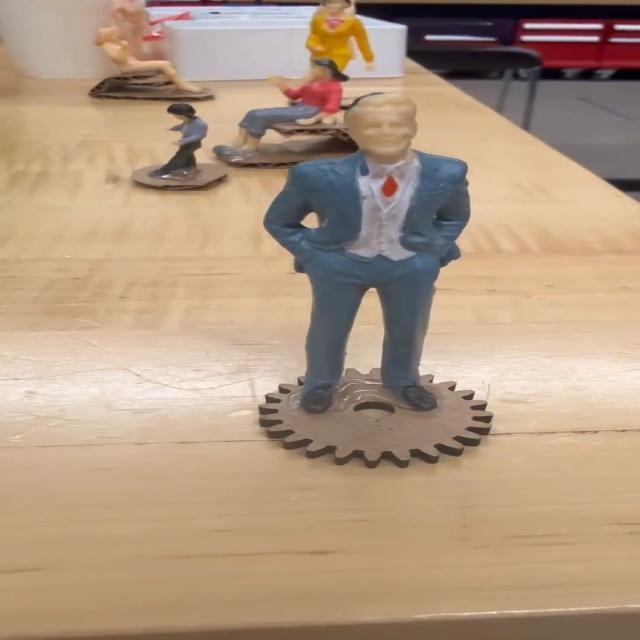Authorized: (259, 93, 477, 422)
